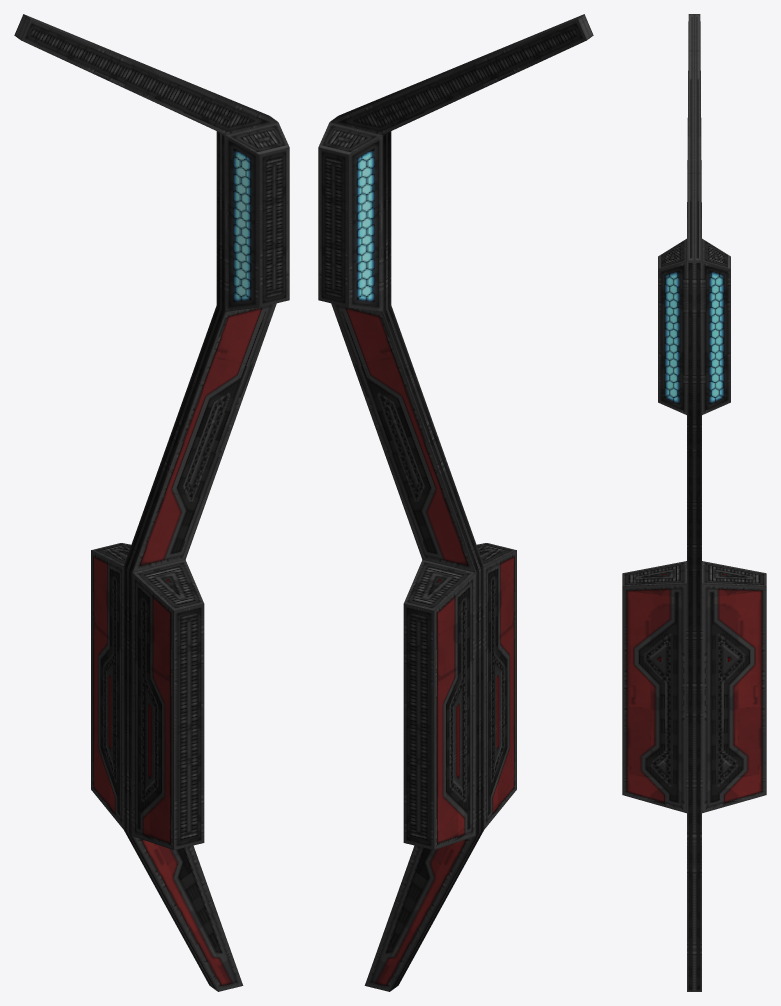
File: BFP_SB_ConnectorSection01.FBX
The picture shows the model from 3 angles, left to right: view 1: azimuth 30°, elevation 25°; view 2: azimuth 150°, elevation 25°; view 3: azimuth 270°, elevation 25°; orthographic projection. The views are drawn at different scales.
Visible parts, largest first — view 1: BFP_SB_ConnectorSection01; view 2: BFP_SB_ConnectorSection01; view 3: BFP_SB_ConnectorSection01.
Part boxes in pixels (box(x1,y1,x2,y2)): BFP_SB_ConnectorSection01: box(14, 14, 289, 991); BFP_SB_ConnectorSection01: box(318, 14, 593, 991); BFP_SB_ConnectorSection01: box(622, 14, 766, 991).
Size of the model in its own units: 634 by 2404 by 355.
Materials: 1 (1 with a texture image).
